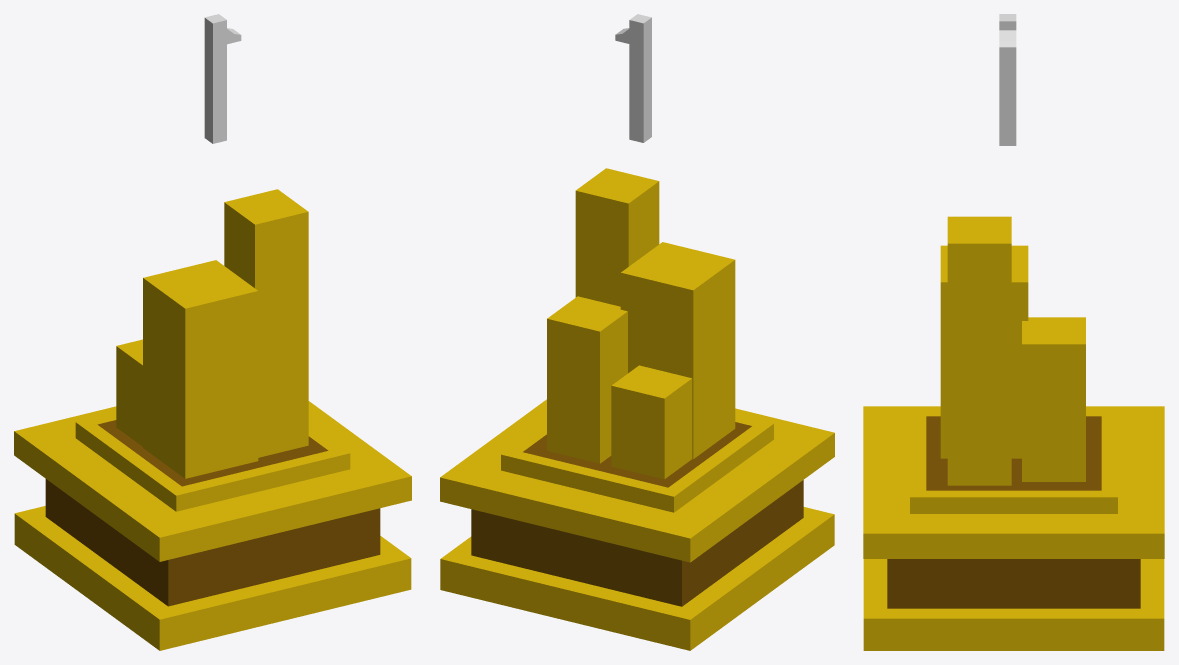
File: kubok.fbx
3 views of the same model, side by side, from view 1: azimuth 30°, elevation 25°; view 2: azimuth 150°, elevation 25°; view 3: azimuth 270°, elevation 25° (orthographic). The views are drawn at different scales.
Parts seen in each view (by area): view 1: Cube, Cube.001, Cube.003, Cube.005, Cube.004; view 2: Cube, Cube.001, Cube.002, Cube.003, Cube.004, Cube.005; view 3: Cube, Cube.003, Cube.002, Cube.001, Cube.005.
Boxes of the visible parts, x1,y1,x2,y2 form: Cube: [14, 401, 411, 650]; Cube.001: [143, 260, 258, 478]; Cube.003: [224, 189, 308, 457]; Cube.005: [204, 14, 226, 143]; Cube.004: [116, 339, 142, 446]; Cube: [440, 399, 834, 650]; Cube.001: [620, 242, 735, 459]; Cube.002: [547, 296, 627, 463]; Cube.003: [575, 168, 659, 306]; Cube.004: [611, 365, 692, 479]; Cube.005: [629, 14, 651, 142]; Cube: [863, 406, 1164, 650]; Cube.003: [947, 216, 1011, 485]; Cube.002: [1022, 317, 1085, 481]; Cube.001: [940, 245, 1028, 458]; Cube.005: [999, 14, 1016, 145].
Size of the model in its own units: 200 by 418 by 200.
